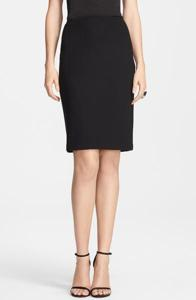F_tailored skirt: (57, 12, 143, 154)
